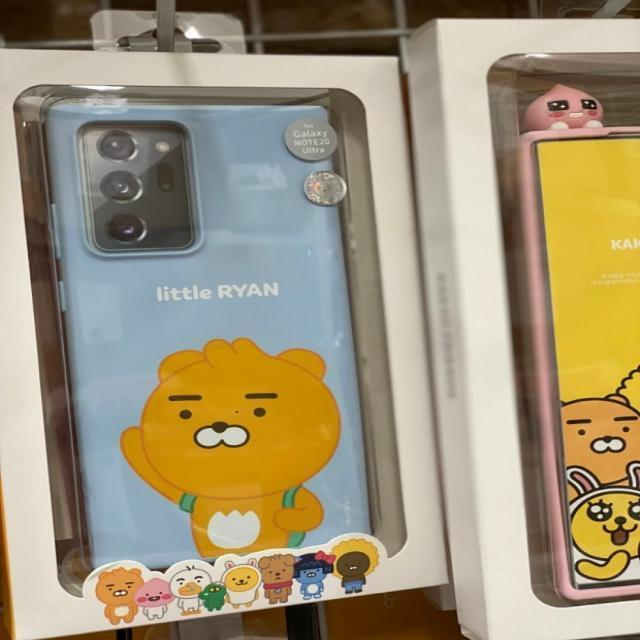lens: (78, 122, 200, 255)
phone: (46, 100, 373, 572)
